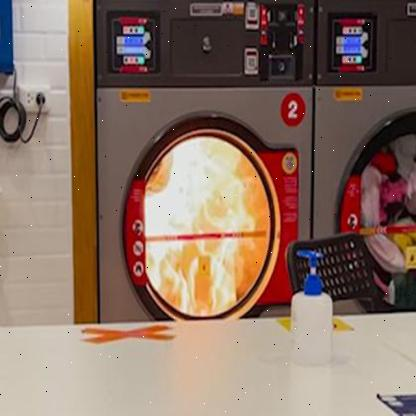fire: (130, 128, 288, 326)
